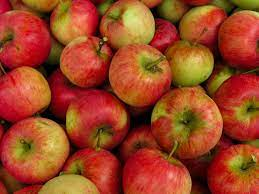apple: (1, 11, 50, 69)
